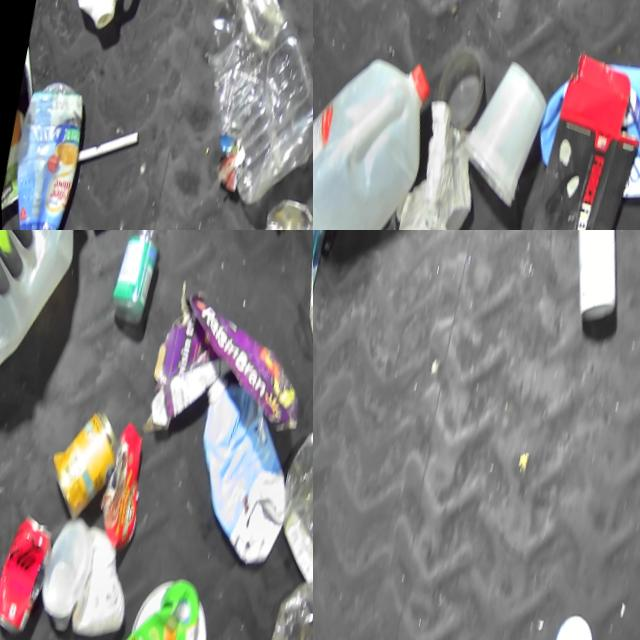can: (39, 393, 126, 526), (0, 504, 56, 640), (0, 108, 32, 228), (248, 189, 313, 230)
milk_jug: (176, 363, 310, 568), (313, 31, 440, 230), (0, 230, 93, 389), (49, 0, 156, 37)
non_white_jug: (527, 28, 640, 206)
plastic_bottle: (170, 0, 313, 219), (262, 412, 313, 607), (291, 230, 313, 364)
